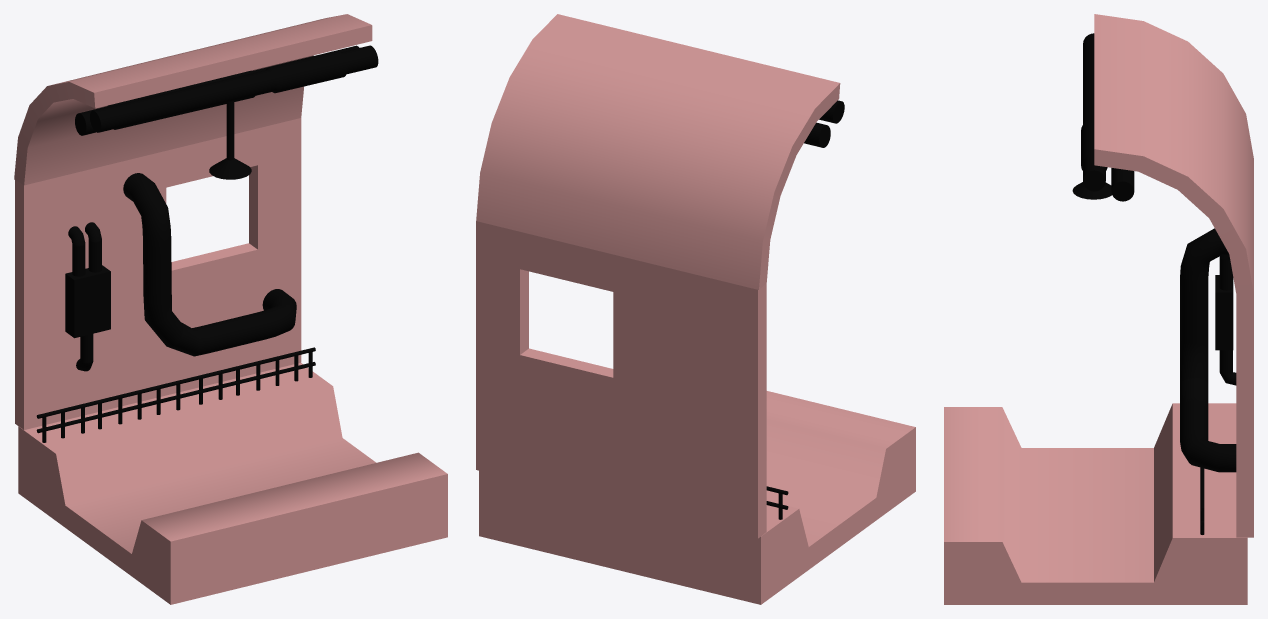
The model's file is sewer_room3.fbx.
3 renders of one model, left to right at view 1: azimuth 30°, elevation 25°; view 2: azimuth 150°, elevation 25°; view 3: azimuth 270°, elevation 25°, orthographic. The views are drawn at different scales.
Visible parts, largest first — view 1: room3_walls, room3_metal; view 2: room3_walls, room3_metal; view 3: room3_walls, room3_metal.
Part boxes in pixels (bbox=[...]): room3_walls: bbox=[14, 14, 447, 604]; room3_metal: bbox=[36, 45, 378, 442]; room3_walls: bbox=[476, 14, 915, 604]; room3_metal: bbox=[766, 100, 844, 519]; room3_walls: bbox=[944, 14, 1253, 604]; room3_metal: bbox=[1072, 33, 1236, 534].
Size of the model in its own units: 2.03 by 3.15 by 1.94.
